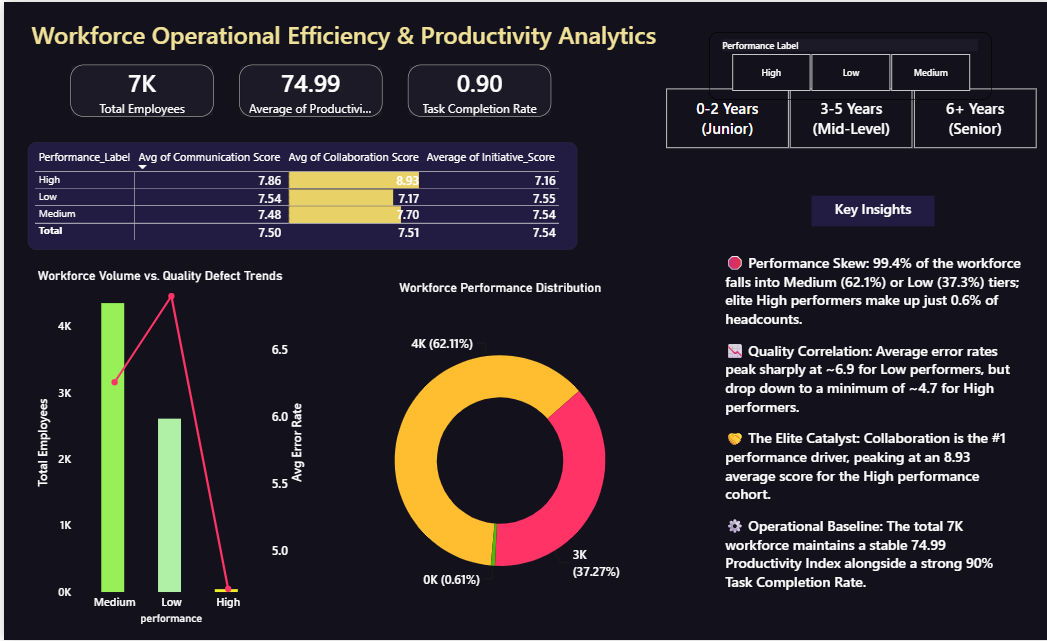

The page's visual inventory and layout, read from the dashboard file:
{"tool":"powerbi","page":{"name":"Operational Overview","canvas":[1400,850],"ordinal":0},"visuals":[{"type":"slicer","fields":{"Values":["employee_performance_dataset.Experience Tier"]},"box":[856.2,106.2,543.8,95.3],"z":0},{"type":"slicer","fields":{"Values":["employee_performance_dataset.Performance_Label"]},"box":[940.6,40.6,376.6,90.6],"z":1000},{"type":"donutChart","title":"Workforce Performance Distribution","fields":{"Category":["employee_performance_dataset.Performance_Label"],"Series":["employee_performance_dataset.Performance_Label"],"Y":["_All_Measures.Total Employees"]},"box":[434.4,370.3,453.1,464.1],"z":2000},{"type":"lineStackedColumnComboChart","title":"Workforce Volume vs. Quality Defect Trends","fields":{"Category":["employee_performance_dataset.Performance_Label"],"Y2":["_All_Measures.Avg Error Rate"],"Y":["_All_Measures.Total Employees"]},"box":[40.6,354.7,368.8,479.7],"z":3000},{"type":"cardVisual","fields":{"Data":["_All_Measures.Task Completion Rate"]},"box":[521.9,67.2,225,103.1],"z":4000},{"type":"textbox","box":[31.2,17.2,865.6,68.8],"z":5000},{"type":"pivotTable","fields":{"Rows":["employee_performance_dataset.Performance_Label"],"Values":["Avg(employee_performance_dataset.Communication_Score)","Avg(employee_performance_dataset.Collaboration_Score)","Avg(employee_performance_dataset.Initiative_Score)"]},"box":[31.2,185.9,732.8,143.8],"z":6000},{"type":"cardVisual","fields":{"Data":["Avg(employee_performance_dataset.Productivity_Index)"]},"box":[296.9,67.2,225,103.1],"z":7000},{"type":"cardVisual","fields":{"Data":["_All_Measures.Total Employees"]},"box":[71.9,67.2,225,103.1],"z":8000},{"type":"textbox","box":[956.2,329.7,404.7,481.2],"z":9000},{"type":"textbox","box":[1076.6,257.8,164.1,40.6],"z":10000}]}

Visuals, with their boxes in screenshot pixels (x1, y1, x2, y2), scaled from the page's 1400x850 canvas onto the 1047x641 screenshot:
slicer - employee_performance_dataset.Experience Tier: l=640, t=80, r=1046, b=152
slicer - employee_performance_dataset.Performance_Label: l=703, t=31, r=985, b=99
"Workforce Performance Distribution" donutChart: l=325, t=279, r=664, b=629
"Workforce Volume vs. Quality Defect Trends" lineStackedColumnComboChart: l=30, t=267, r=306, b=629
cardVisual - _All_Measures.Task Completion Rate: l=390, t=51, r=559, b=128
textbox: l=23, t=13, r=671, b=65
pivotTable - employee_performance_dataset.Performance_Label x Avg(employee_performance_dataset.Communication_Score): l=23, t=140, r=571, b=249
cardVisual - Avg(employee_performance_dataset.Productivity_Index): l=222, t=51, r=390, b=128
cardVisual - _All_Measures.Total Employees: l=54, t=51, r=222, b=128
textbox: l=715, t=249, r=1018, b=612
textbox: l=805, t=194, r=928, b=225
